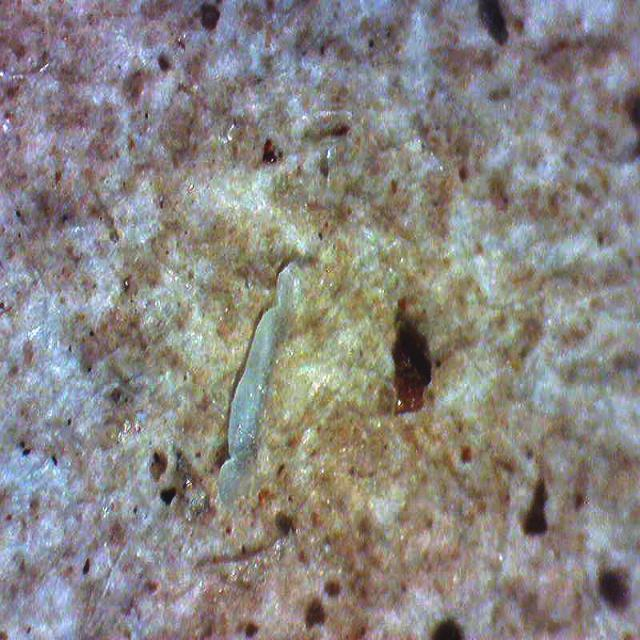microplastic: (214, 262, 308, 510)
